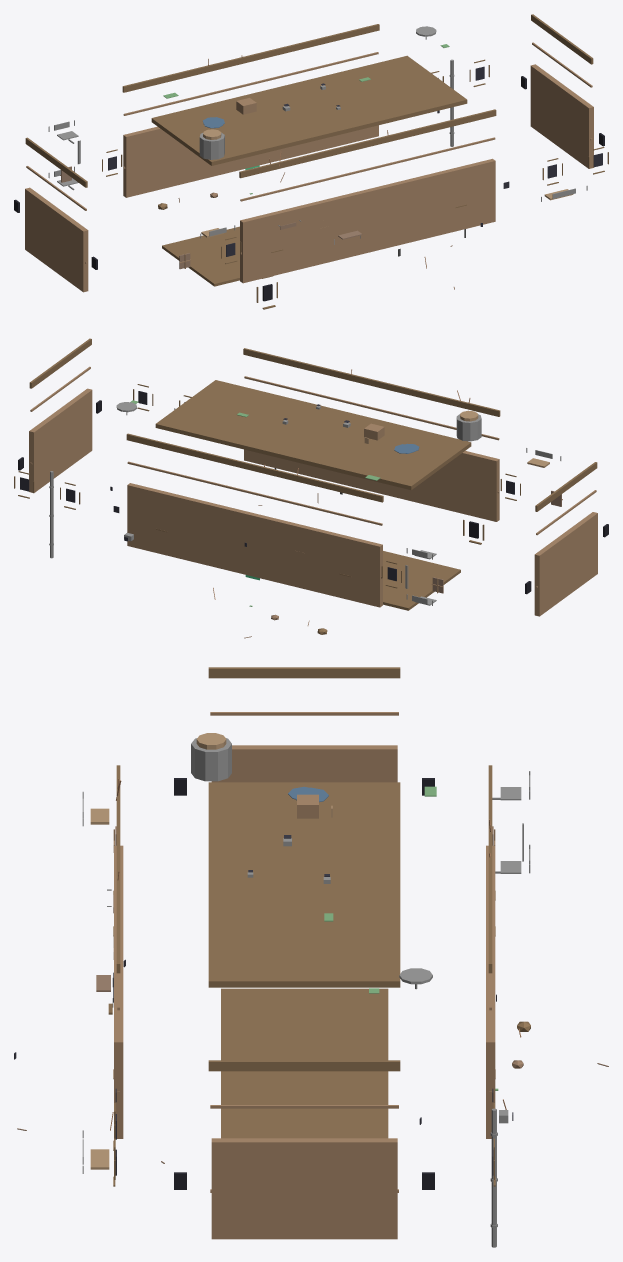
File: building_bottom_right.glb
3 views of the same model, one above another, from view 1: azimuth 30°, elevation 25°; view 2: azimuth 150°, elevation 25°; view 3: azimuth 270°, elevation 25° (orthographic). The views are drawn at different scales.
Parts seen in each view (by area): view 1: BuildingMesh; view 2: BuildingMesh; view 3: BuildingMesh.
Part boxes in pixels (x1=…): BuildingMesh: x1=14, y1=14, x2=608, y2=309; BuildingMesh: x1=14, y1=338, x2=608, y2=638; BuildingMesh: x1=14, y1=667, x2=608, y2=1247.
Size of the model in its own units: 10.1 by 3.03 by 6.4.
